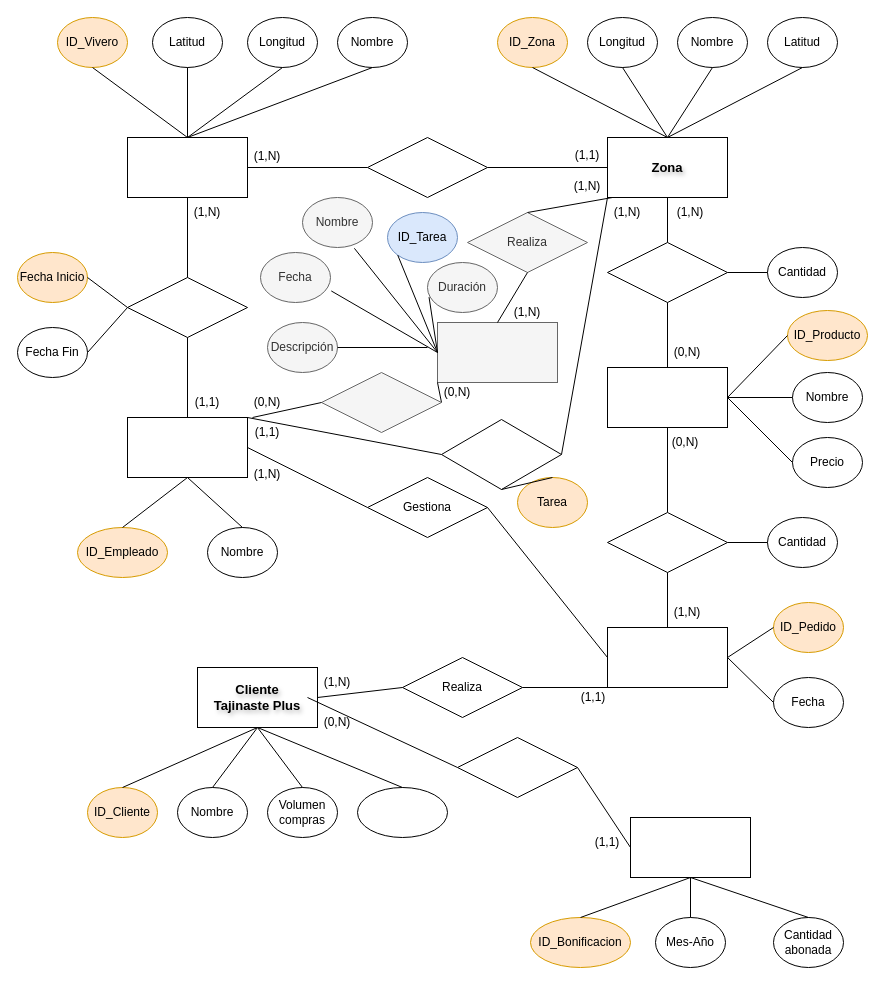
This 885x985 diagram has some shape labels left out. The centre of each missing label's shape, as x and y in pixels:
"Asigna" belongs at (381,402).
"Asignan" belongs at (427,167).
"Bonificaiones" belongs at (690,847).
"Contiene" belongs at (667,542).
"Desempeña" belongs at (501,454).
"Destinado" belongs at (187,307).
"Empleados" belongs at (187,447).
"Fecha ingreso" belongs at (402,812).
"Pedidos" belongs at (667,657).
"Producto" belongs at (667,397).
"Recbe" belongs at (517,767).
"Stock" belongs at (667,272).
"Tarea de Mantenimiento" belongs at (497,352).
"Vivero" belongs at (187,167).
